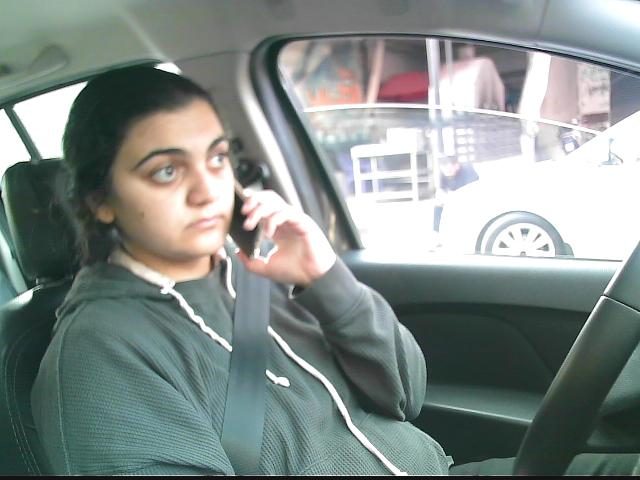PhoneUse: (204, 170, 272, 268)
